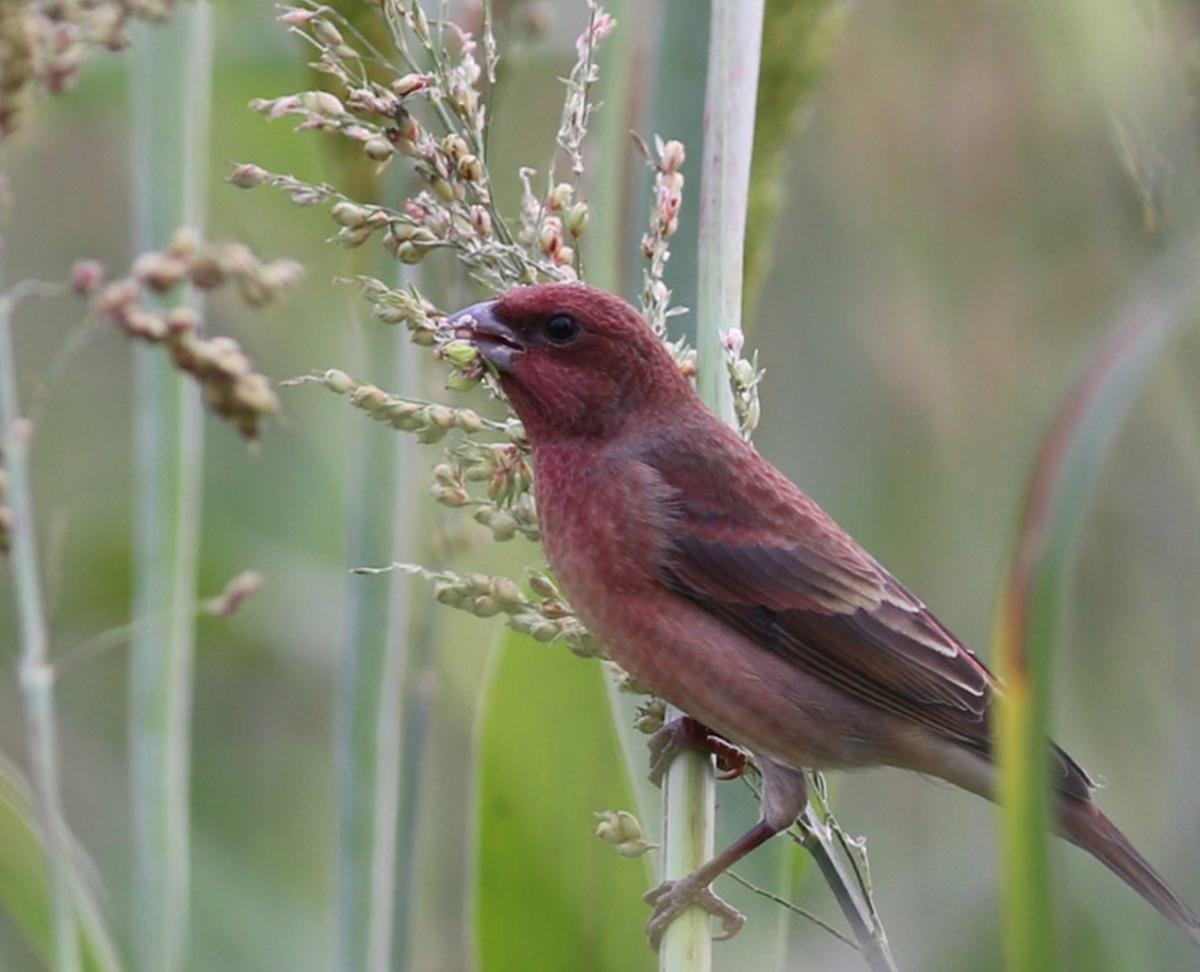rosefinch: (428, 276, 1040, 911)
